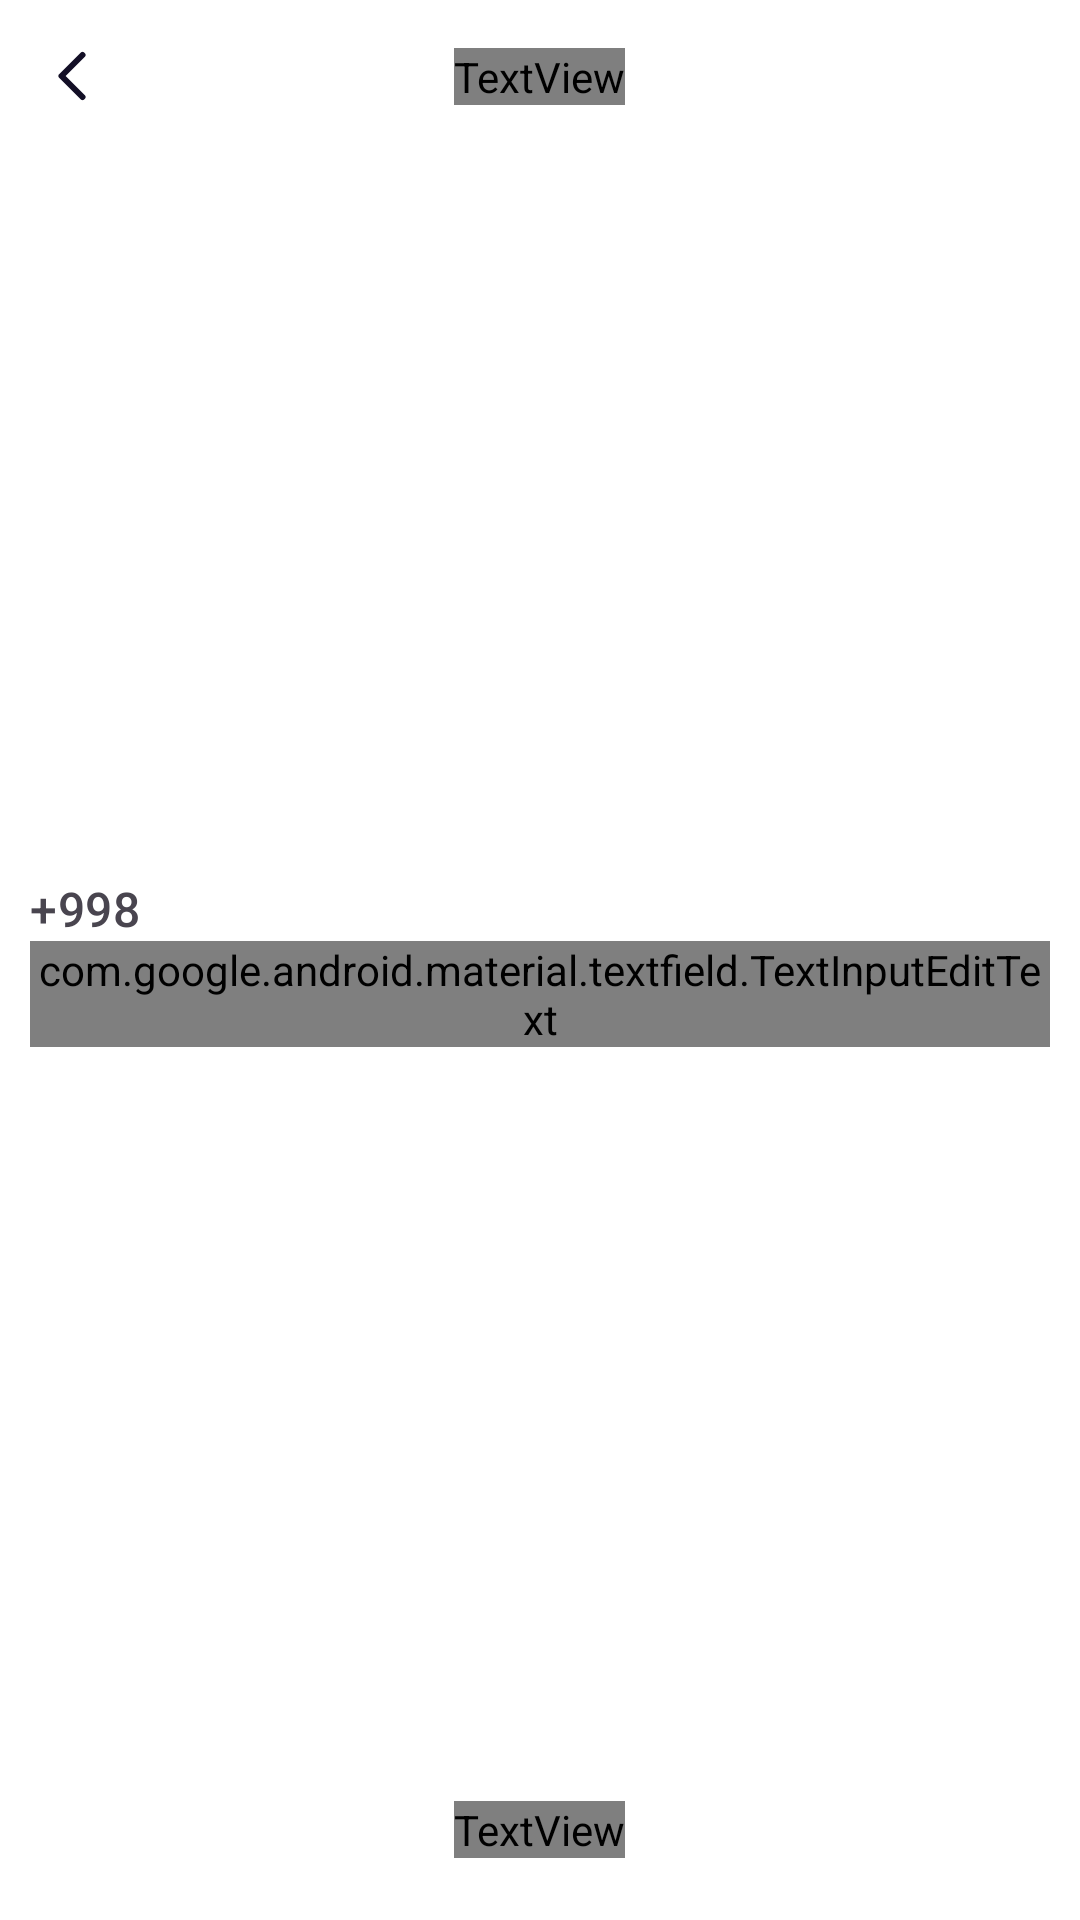

Named icons in this screenshot (1080x1920) and their bounding boxes, box(x1, y1, x2, y2):
back: box(58, 51, 86, 101)
